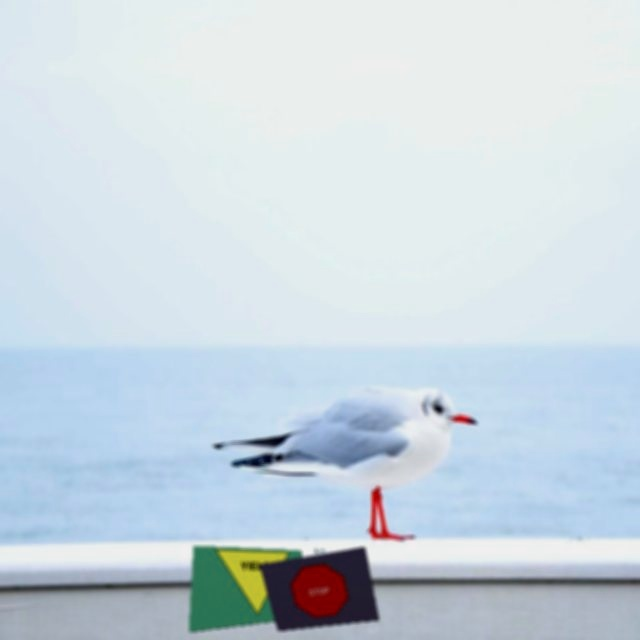STOP: (286, 560, 352, 623)
YIELD: (207, 550, 301, 621)
